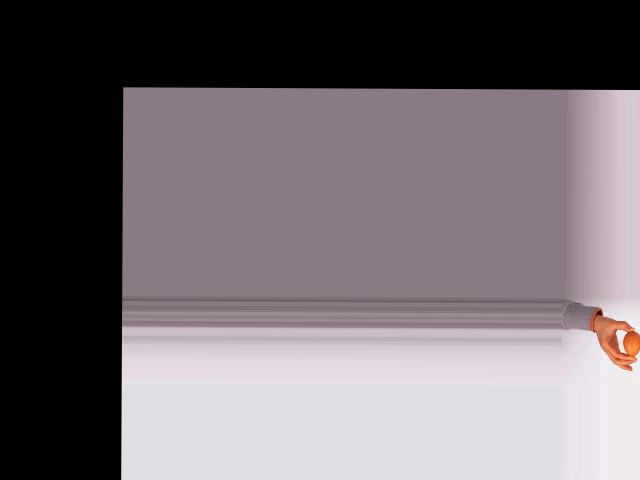egg: (624, 331, 640, 356)
